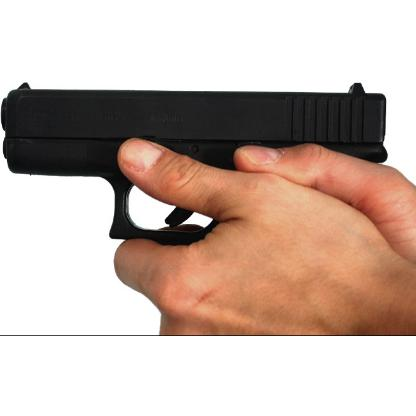gun: (3, 80, 388, 332)
